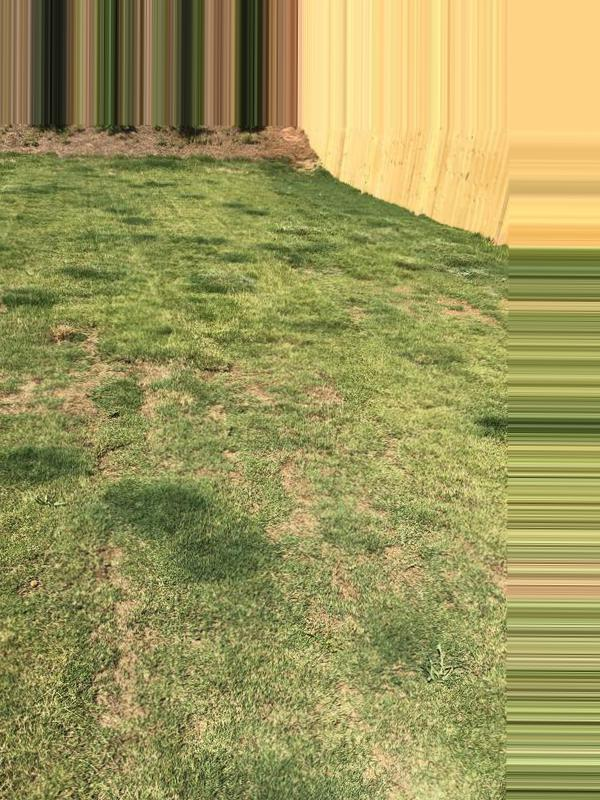patch: (311, 551, 373, 624), (377, 742, 421, 785), (107, 684, 147, 719), (140, 356, 173, 376), (281, 475, 302, 506), (80, 382, 94, 426)
